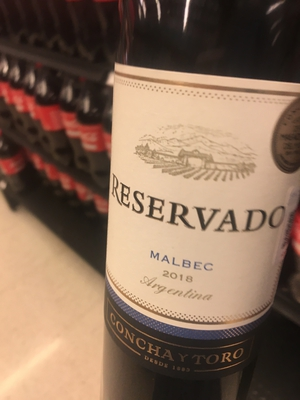reservado malbec: (101, 6, 298, 399)
